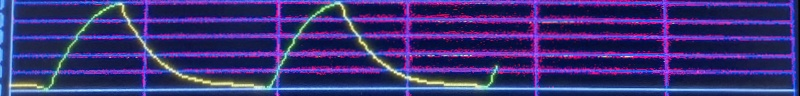normal_volume: (8, 0, 486, 94)
